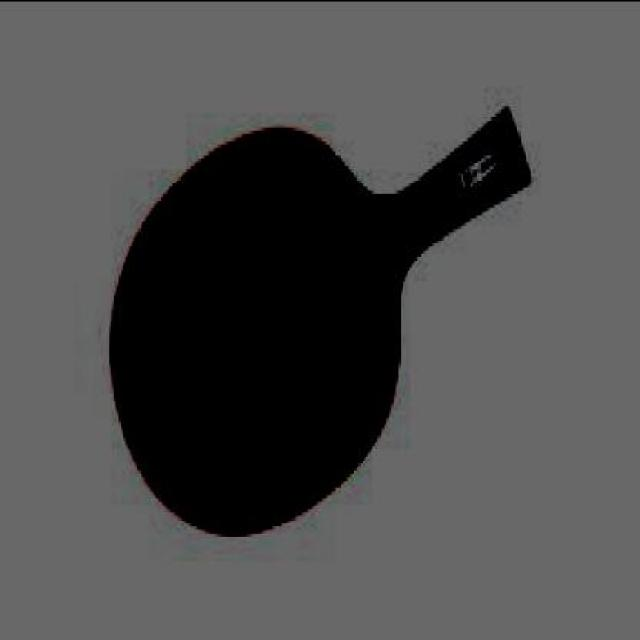table_tennis_racket: (109, 111, 397, 544)
